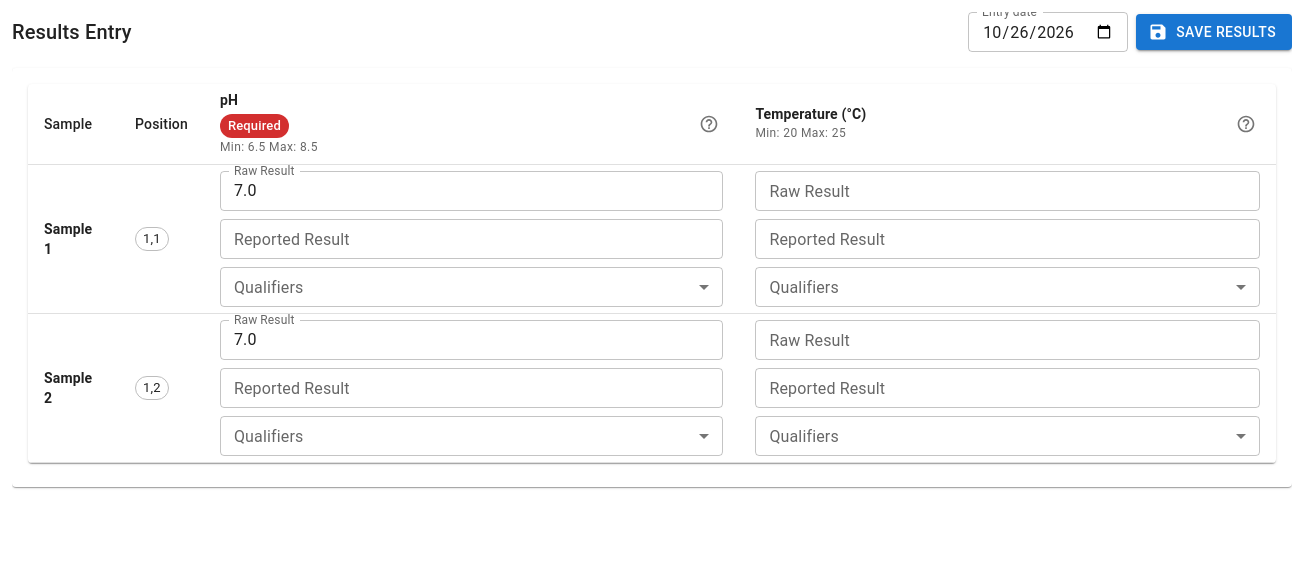
Test: ResultsEntryTable › refuses a typed entry date after today without posting
The image size is (1304, 570).
Type "2099-01-01" into the date field labelled "Entry date" at x=1048, y=32, box left=968, top=12, right=1128, bottom=52
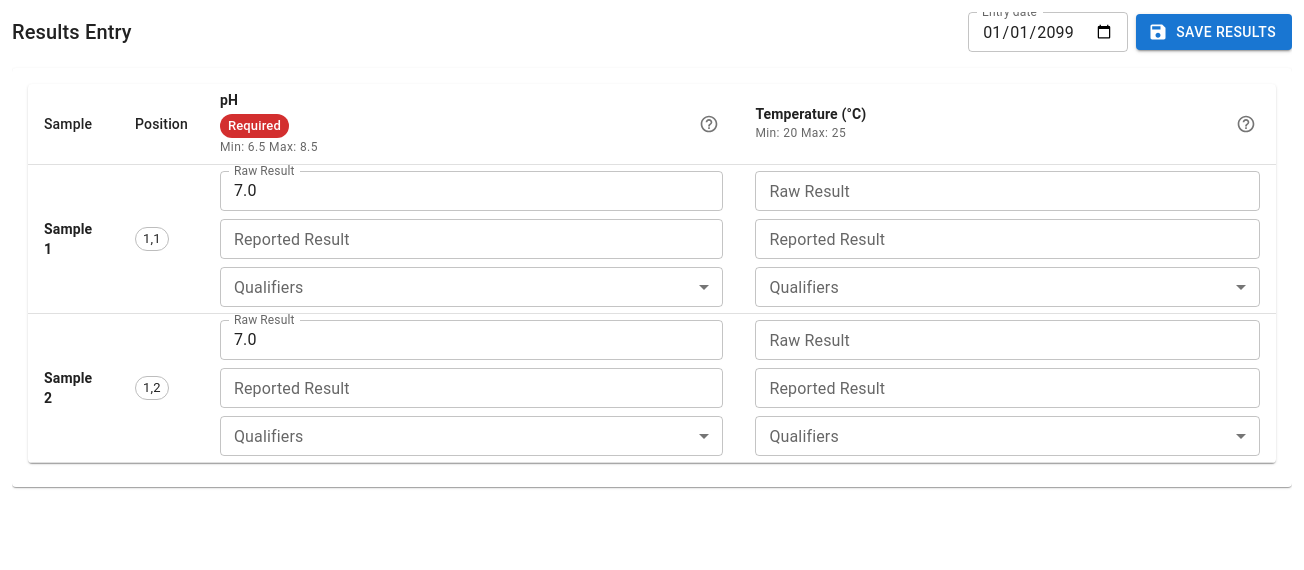
Click the button "Save Results" at x=1214, y=32, box left=1136, top=14, right=1292, bottom=50
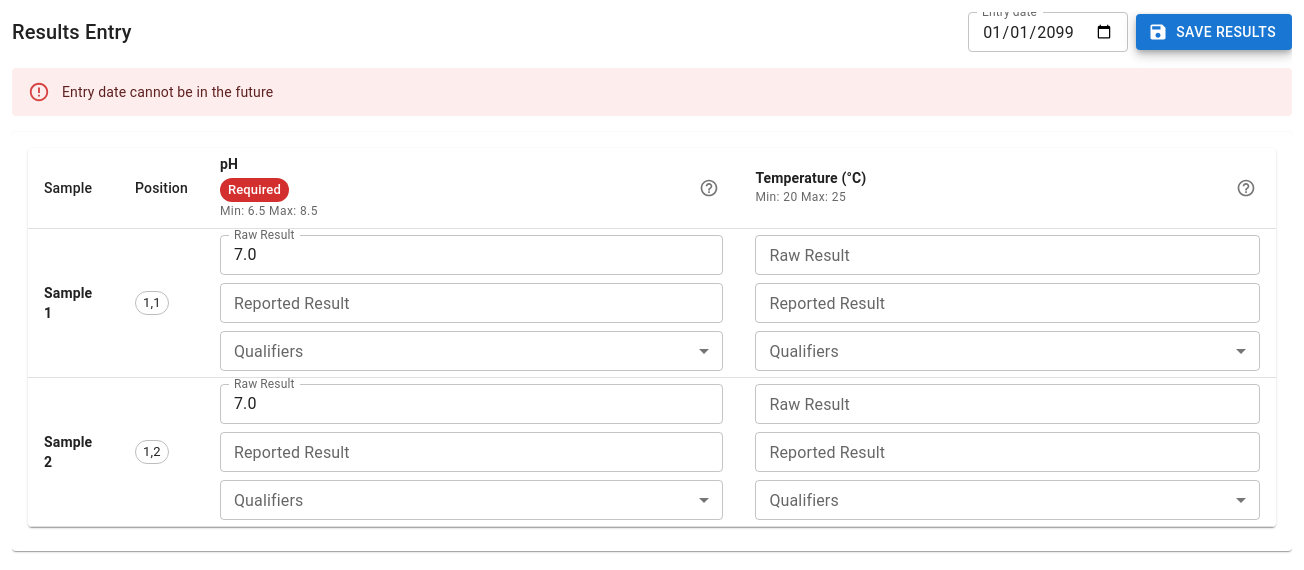
Expected: the text "Entry date cannot be in the future" is shown once, left=62, top=84, right=273, bottom=100
